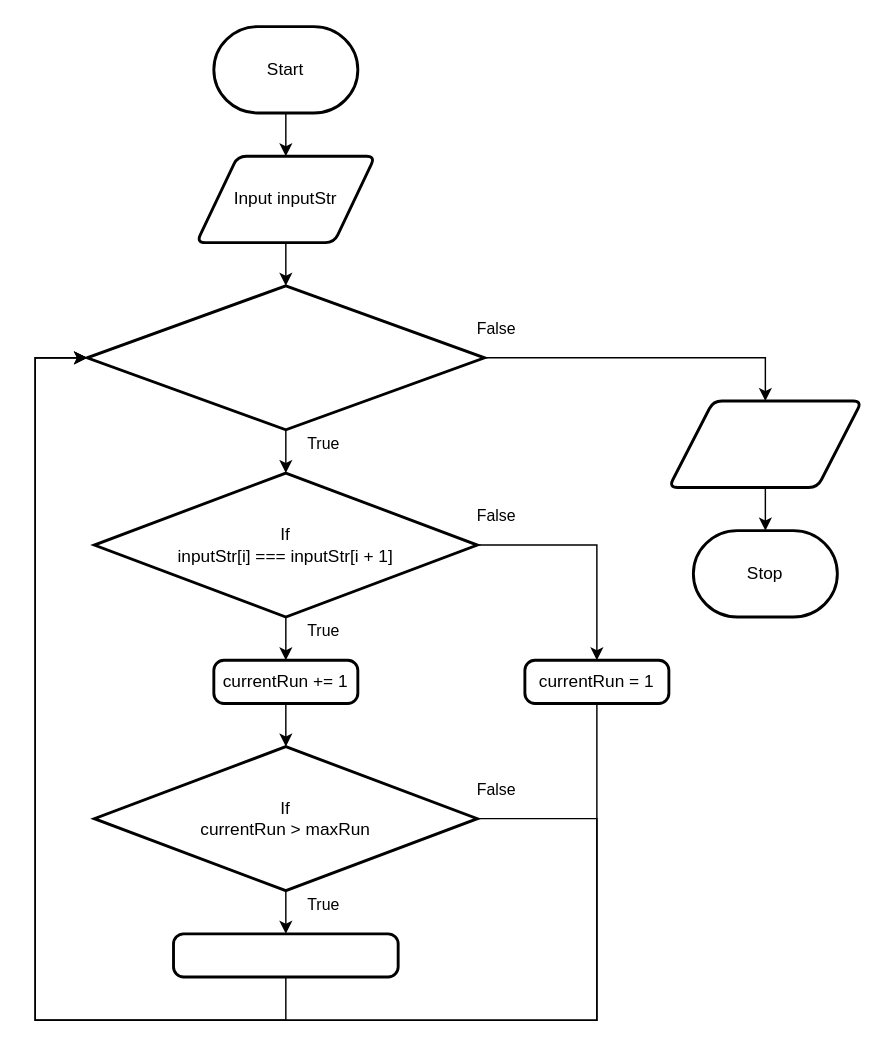
This 888x1057 diagram has some shape labels left out. The shapes that lost their labels are listed below. From the top down, each one's centre as x and y in pixels, then its label:
(285,357): For i = 0; i < inputStr.length; i++
(765,443): Return maxRun
(285,955): maxRun = currentRun
